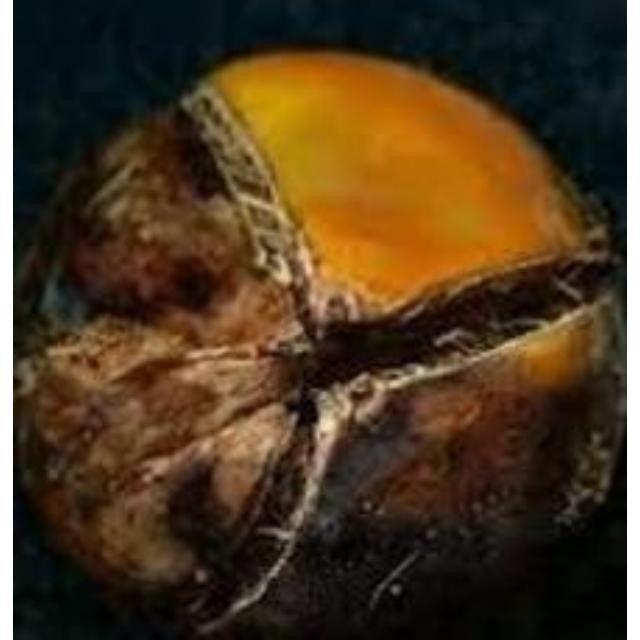damaged: (13, 48, 622, 634)
